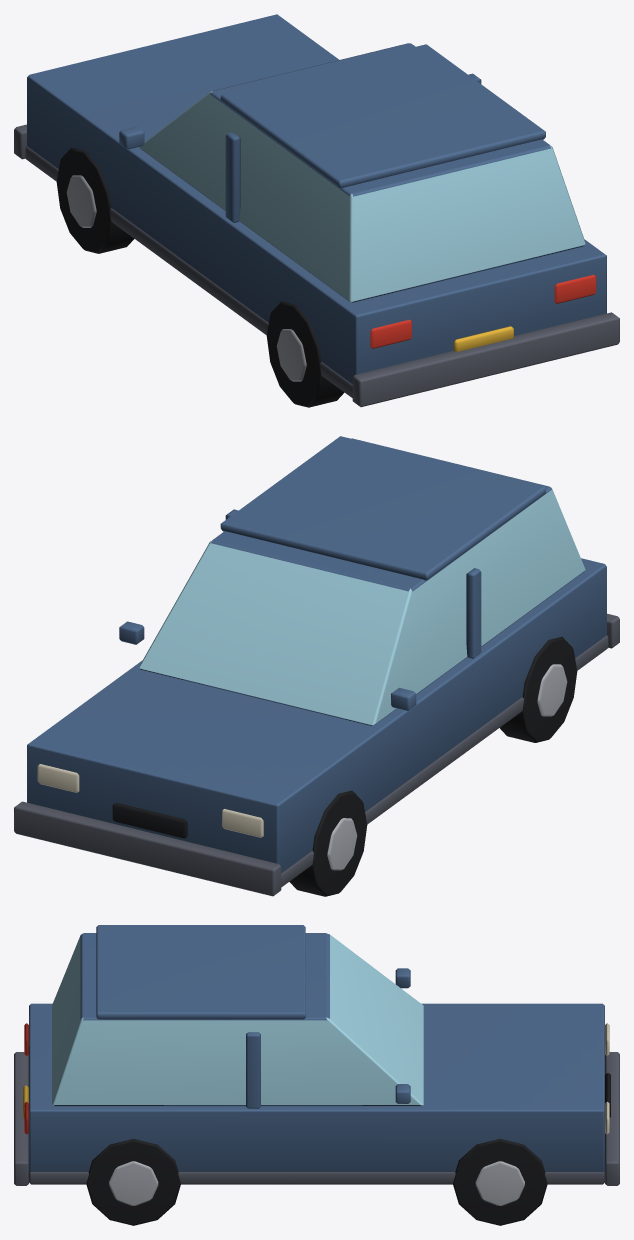
File: resident_car.glb
3 renders of one model, top to bottom at view 1: azimuth 30°, elevation 25°; view 2: azimuth 150°, elevation 25°; view 3: azimuth 270°, elevation 25°, orthographic. The views are drawn at different scales.
Parts seen in each view (by area): view 1: Body; view 2: Body; view 3: Body.
Part boxes in pixels (x1,y1,x2,y2): Body: (14, 14, 619, 407); Body: (14, 436, 619, 896); Body: (14, 925, 619, 1225).
Bounding box in the file's own units: 1.96 × 1.5 × 4.05.
Materials: 1 (1 with a texture image).
